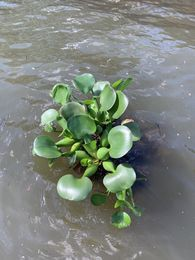water_hyacinth: (32, 72, 147, 231)
